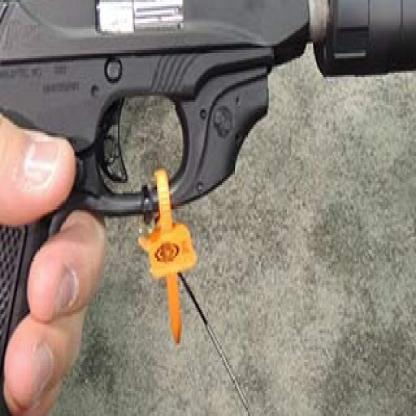gun: (0, 0, 325, 414)
